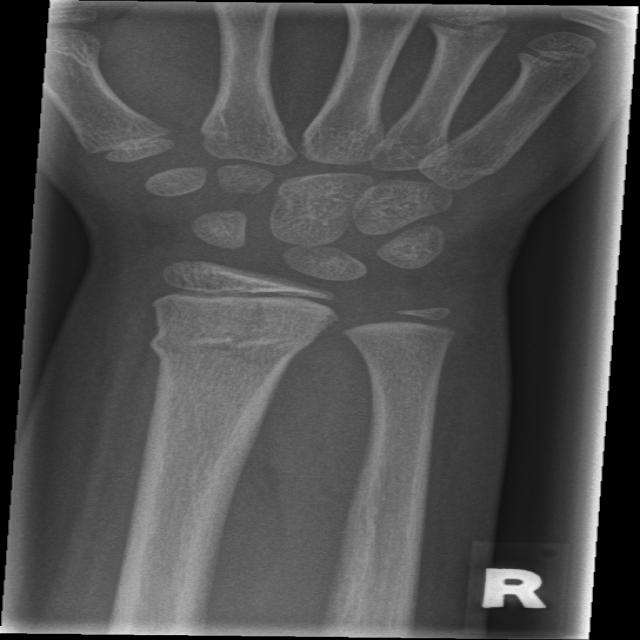radius fracture: (126, 308, 332, 480)
